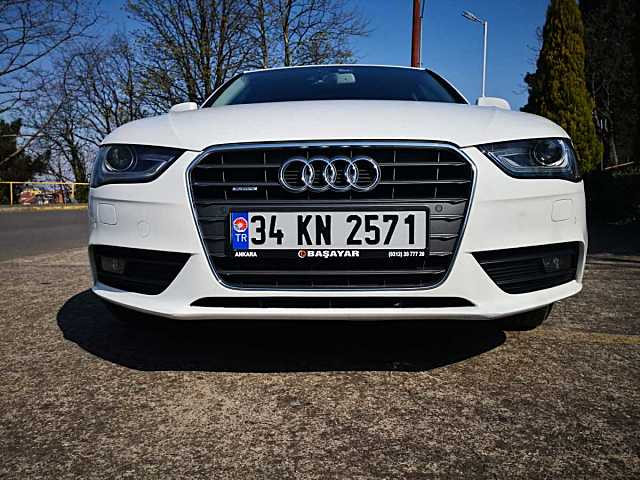audi: (270, 150, 383, 197)
